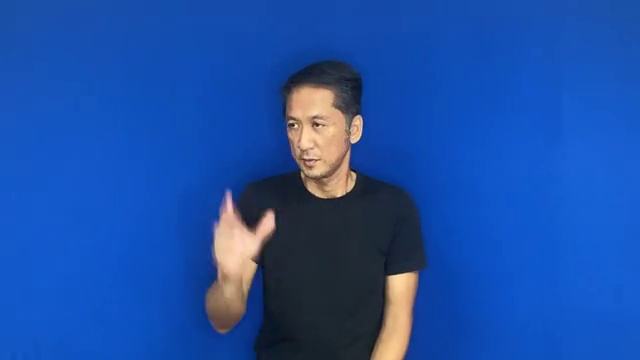chicken: (191, 180, 282, 285)
